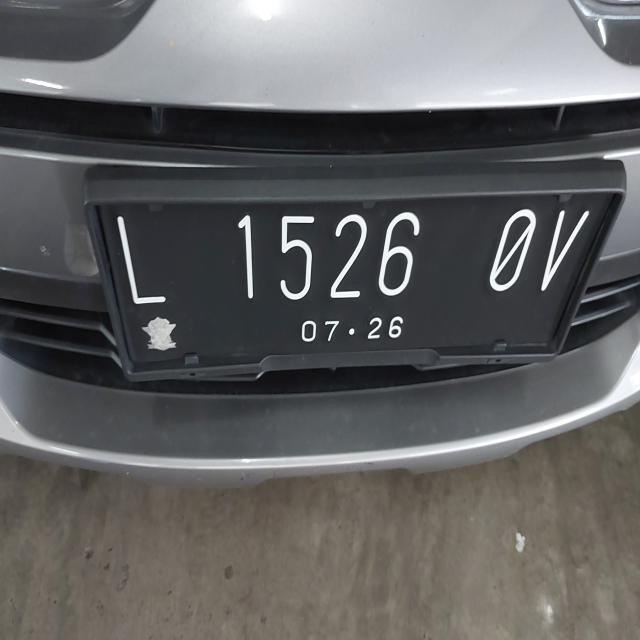1: (225, 202, 268, 324)
2: (322, 200, 372, 306)
5: (270, 193, 322, 315)
6: (374, 208, 432, 306)
L: (95, 200, 174, 322)
O: (483, 198, 542, 313)
V: (536, 190, 591, 310)
